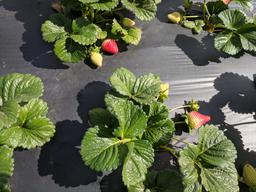green strawberry: (242, 163, 256, 188), (89, 51, 103, 67), (167, 11, 181, 23), (122, 17, 136, 27)
red strawberry: (185, 111, 212, 129), (102, 39, 119, 53)
